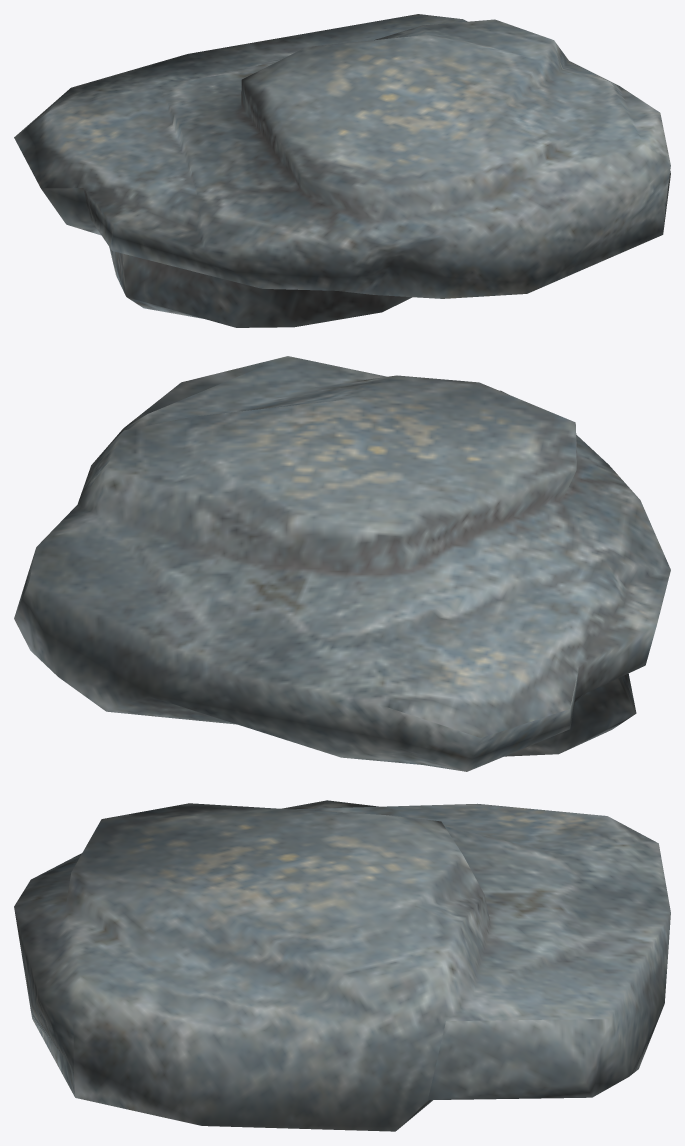
The model's file is PBR-Rocks-20-small.fbx.
3 views of the same model, one above another, from view 1: azimuth 30°, elevation 25°; view 2: azimuth 150°, elevation 25°; view 3: azimuth 270°, elevation 25° (orthographic). The views are drawn at different scales.
Visible parts, largest first — view 1: Rock_20_LOD0; view 2: Rock_20_LOD0; view 3: Rock_20_LOD0.
Part boxes in pixels (x1,y1,x2,y2): Rock_20_LOD0: [14, 14, 670, 327]; Rock_20_LOD0: [14, 356, 670, 771]; Rock_20_LOD0: [14, 800, 670, 1131].
Bounding box in the file's own units: 122 × 41.39 × 118.
Materials: 1 (1 with a texture image).
